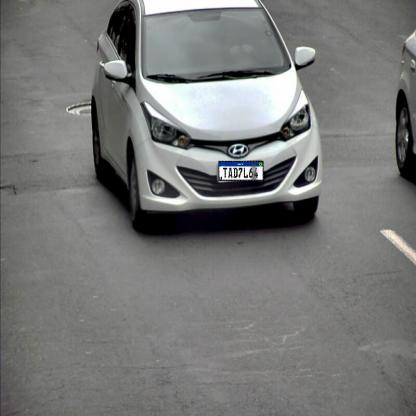PlacaM: (219, 161, 264, 181)
